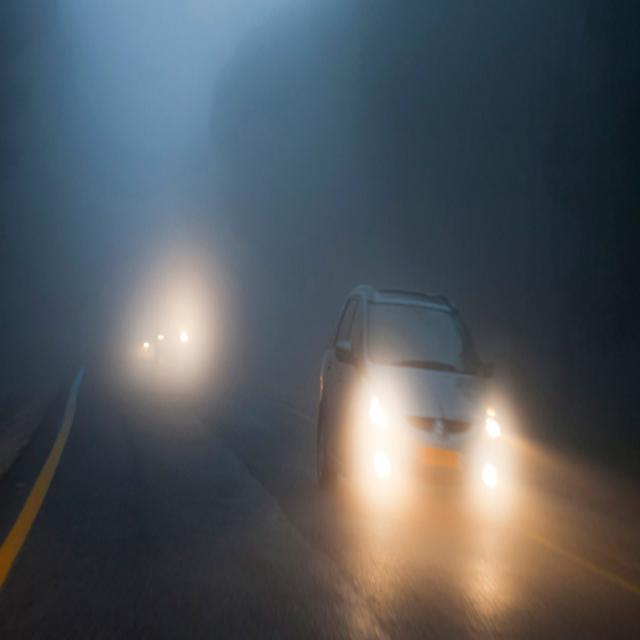car: (318, 279, 502, 519), (156, 306, 190, 361)
